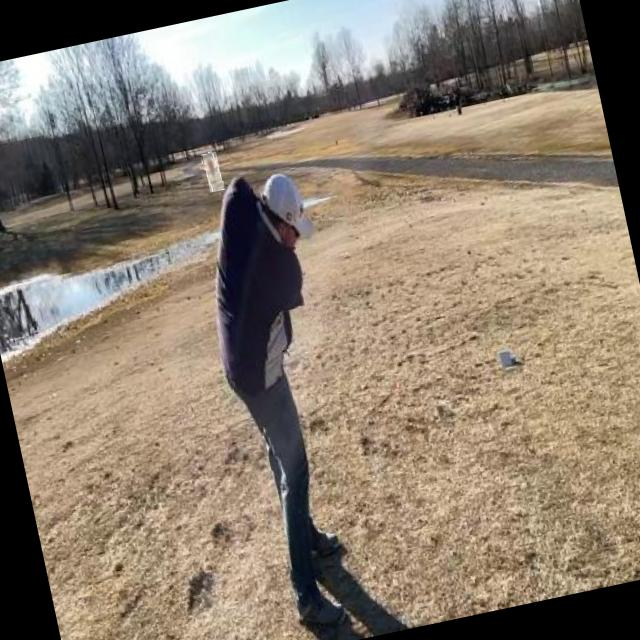club head: (202, 151, 224, 192)
